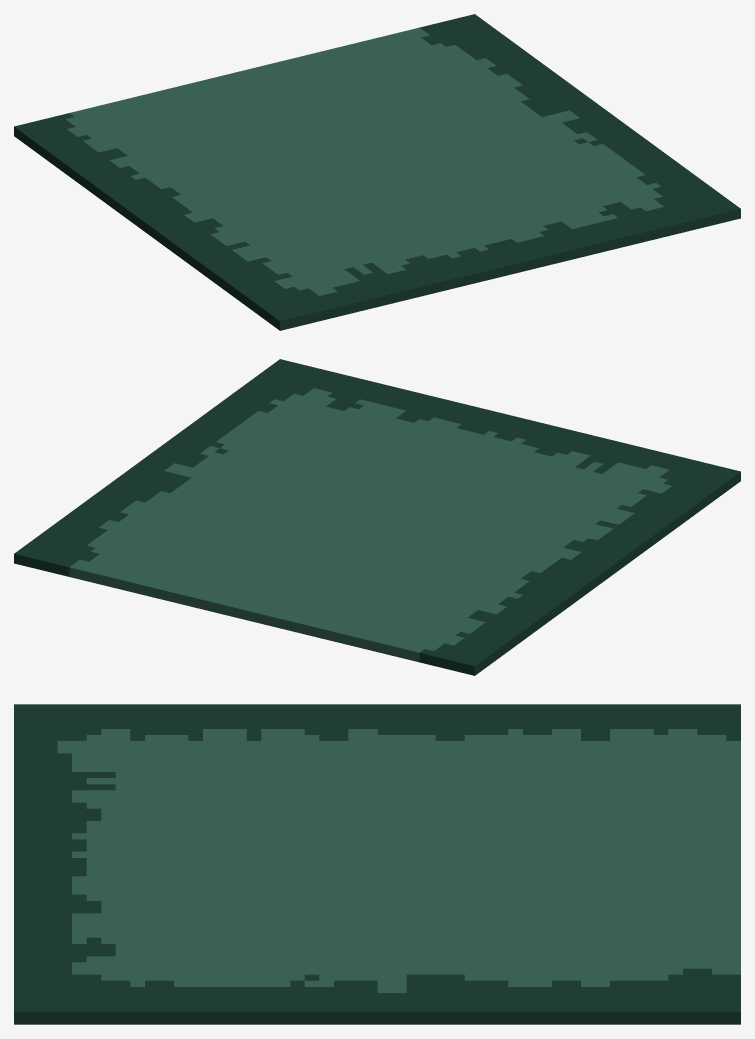
File: OneSideGround.obj
3 views of the same model, one above another, from view 1: azimuth 30°, elevation 25°; view 2: azimuth 150°, elevation 25°; view 3: azimuth 270°, elevation 25° (orthographic). The views are drawn at different scales.
Size of the model in its own units: 5 by 0.1 by 5.
Materials: 1 (1 with a texture image).
